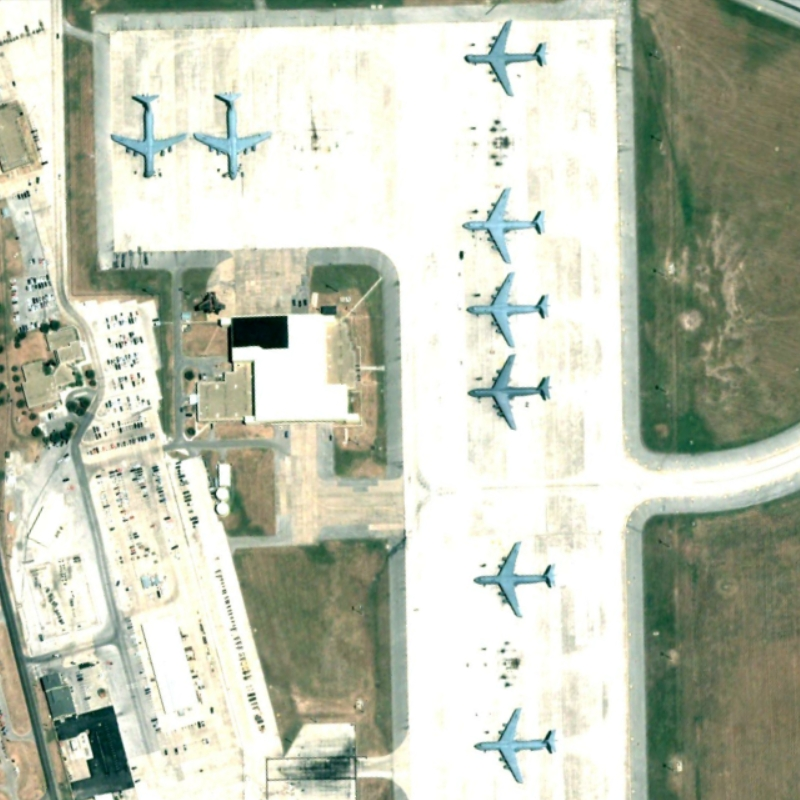A4: (184, 83, 281, 186), (106, 83, 189, 183), (471, 700, 563, 790), (462, 348, 556, 434), (461, 266, 554, 352), (454, 12, 548, 97), (467, 532, 556, 621), (456, 185, 549, 266)
